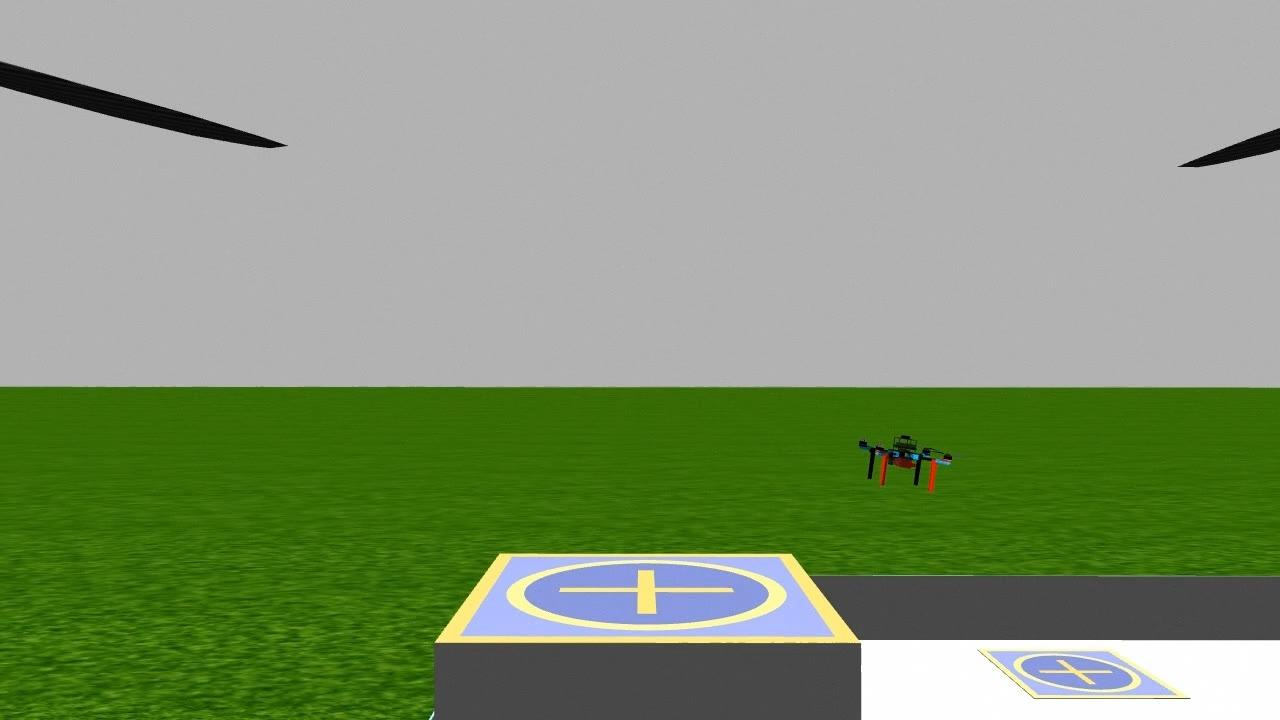UAV: (821, 424, 990, 500)
